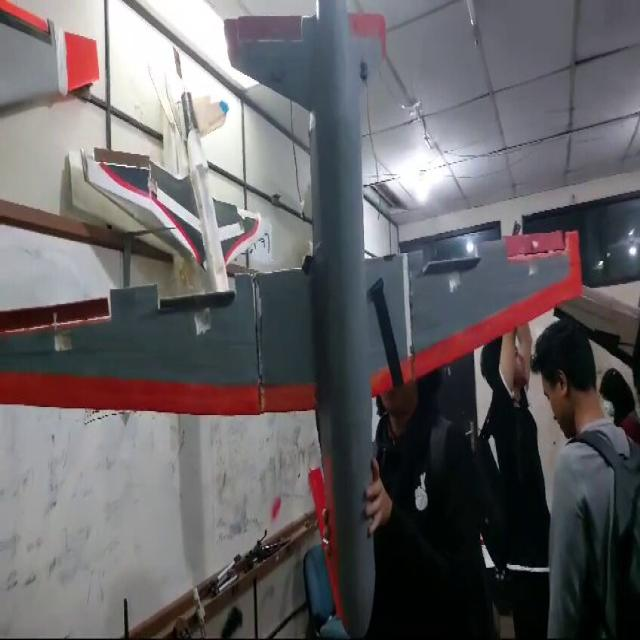plane: (0, 0, 583, 637)
